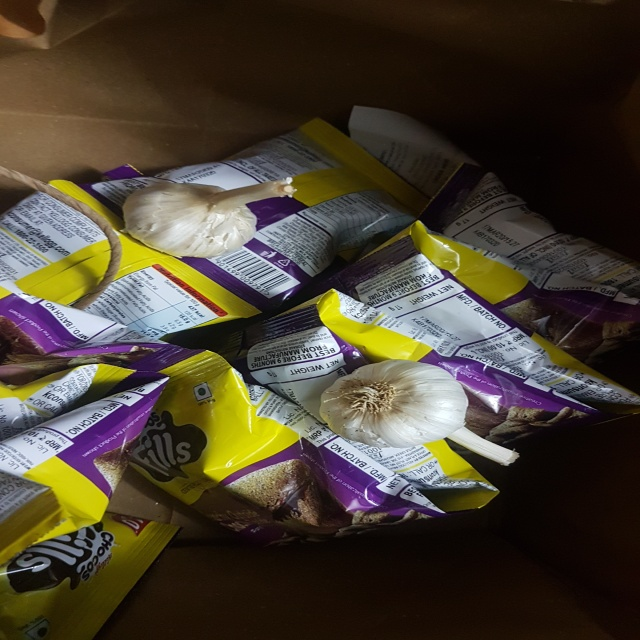garlic: (316, 352, 522, 467), (114, 159, 304, 258)
